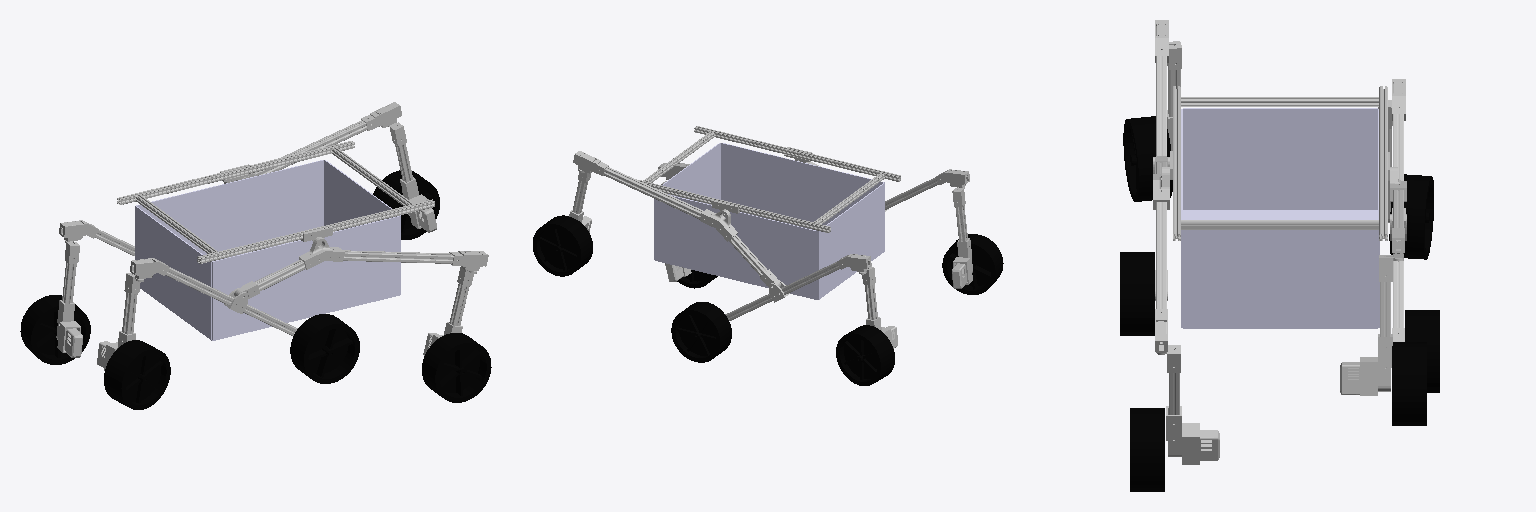
URDF robot description (Mars-Rover-URDF):
<?xml version="1.0" encoding="utf-8"?>
<!-- This URDF was automatically created by SolidWorks to URDF Exporter! Originally created by
Stephen Brawner ([email redacted]) 
     Commit Version: 1.6.0-4-g7f85cfe  Build Version: 1.6.7995.38578
     For more information, please see http://wiki.ros.org/sw_urdf_exporter -->


<robot
  name="Mars-Rover-URDF">

  <material name="white">
    <color rgba="1 1 1 1" />
  </material>

  <material name="black">
    <color rgba="0 0 0 1" />
  </material>

  <material name="orange">
    <color rgba="1 0.3 0.1 1" />
  </material>

  <material name="blue">
    <color rgba="0.2 0.2 1 1" />
  </material>

  <material name="green">
    <color rgba="0 0.3 0 1" />
  </material>

  <material name="red">
    <color rgba="1 0 0 1" />
  </material>

  <material name="polycarbonate_clear">
    <color rgba="0.9 0.9 1 0.3" /> <!-- Slight bluish transparency for chassis -->
  </material>

  <material name="aluminum">
    <color rgba="0.8 0.8 0.8 1" /> <!-- Light gray for aluminum frame and x-bars -->
  </material>

  <material name="teal_blue">
    <color rgba="0.1 0.7 0.75 1" /> <!-- For the teal 3D printed joints/mounts -->
  </material>

  <material name="rubber_black">
    <color rgba="0.05 0.05 0.05 1" /> <!-- Extra dark for wheels/tires -->
  </material>

  <link
    name="base_link">
    <inertial>
      <origin
        xyz="0.0135427022776655 0.00237368886127913 0.0911475646666017"
        rpy="0 0 0" />
      <mass
        value="1.59483552" />
      <inertia
        ixx="0.01390300058104"
        ixy="8.34099127220805E-20"
        ixz="6.53256743568878E-20"
        iyy="0.0285974954758624"
        iyz="-7.98437892769275E-21"
        izz="0.0352539264984576" />
    </inertial>
    <visual>
      <origin
        xyz="0 0 0"
        rpy="0 0 0" />
      <geometry>
        <mesh
          filename="package://Mars-Rover-URDF/meshes/base_link.STL" />
      </geometry>
      <material name="polycarbonate_clear" />
    </visual>
    <collision>
      <origin
        xyz="0 0 0"
        rpy="0 0 0" />
      <geometry>
        <mesh
          filename="package://Mars-Rover-URDF/meshes/base_link.STL" />
      </geometry>
    </collision>
  </link>
  <gazebo reference="base_link">
    <material>Gazebo/Transparent</material>
  </gazebo>
  <gazebo reference="base_link">
    <material>Gazebo/Transparent</material>
  </gazebo>

  <link
    name="xbar_top_frame">
    <inertial>
      <origin
        xyz="0.000811499096929666 8.04911692853238E-16 0.1957"
        rpy="0 0 0" />
      <mass
        value="0.180967186857142" />
      <inertia
        ixx="0.000721536956668616"
        ixy="-2.7642978576952E-19"
        ixz="1.94383162100892E-19"
        iyy="0.003879590641316"
        iyz="1.13530247207173E-19"
        izz="0.00459369904571848" />
    </inertial>
    <visual>
      <origin
        xyz="0 0 0"
        rpy="0 0 0" />
      <geometry>
        <mesh
          filename="package://Mars-Rover-URDF/meshes/xbar_top_frame.STL" />
      </geometry>
      <material name="aluminum" />
    </visual>
    <collision>
      <origin
        xyz="0 0 0"
        rpy="0 0 0" />
      <geometry>
        <mesh
          filename="package://Mars-Rover-URDF/meshes/xbar_top_frame.STL" />
      </geometry>
    </collision>
  </link>
  <gazebo reference="xbar_top_frame">
    <material>Gazebo/Grey</material>
  </gazebo>


  <joint
    name="xbar_to_chassis_joint"
    type="fixed">
    <origin
      xyz="0.0176427022776656 -0.000626311138720845 0.0245815452491259"
      rpy="0 0 0" />
    <parent
      link="base_link" />
    <child
      link="xbar_top_frame" />
    <axis
      xyz="0 0 0" />
  </joint>
  <link
    name="rocker_to_frame_mount_left">
    <inertial>
      <origin
        xyz="0.00190000079764292 -0.194277679658848 0.187230370865528"
        rpy="0 0 0" />
      <mass
        value="0.0178174846110633" />
      <inertia
        ixx="1.64411942078336E-06"
        ixy="-6.08082946986121E-14"
        ixz="2.61335306584619E-15"
        iyy="8.9149566286252E-06"
        iyz="1.87998295961392E-07"
        izz="8.30298452857927E-06" />
    </inertial>
    <visual>
      <origin
        xyz="0 0 0"
        rpy="0 0 0" />
      <geometry>
        <mesh
          filename="package://Mars-Rover-URDF/meshes/rocker_to_frame_mount_left.STL" />
      </geometry>
      <material name="aluminum" />
    </visual>
    <collision>
      <origin
        xyz="0 0 0"
        rpy="0 0 0" />
      <geometry>
        <mesh
          filename="package://Mars-Rover-URDF/meshes/rocker_to_frame_mount_left.STL" />
      </geometry>
    </collision>
  </link>
  <joint
    name="rocker_to_frame_mount_left_joint"
    type="fixed">
    <origin
      xyz="0.0038 0 0"
      rpy="0 0 3.14159265358979" />
    <parent
      link="xbar_top_frame" />
    <child
      link="rocker_to_frame_mount_left" />
    <axis
      xyz="0 0 0" />
  </joint>
  <link
    name="left_rocker">
    <inertial>
      <origin
        xyz="-0.145741143663234 -0.0146489091382667 -0.0386401086913282"
        rpy="0 0 0" />
      <mass
        value="0.238601333424936" />
      <inertia
        ixx="6.56386397841031E-05"
        ixy="-3.22464227159727E-07"
        ixz="6.39601909179774E-05"
        iyy="0.00112588477072356"
        iyz="-1.29107457638619E-06"
        izz="0.00108818807546615" />
    </inertial>
    <visual>
      <origin
        xyz="0 0 0"
        rpy="0 0 0" />
      <geometry>
        <mesh
          filename="package://Mars-Rover-URDF/meshes/left_rocker.STL" />
      </geometry>
      <material name="aluminum" />
    </visual>
    <collision>
      <origin
        xyz="0 0 0"
        rpy="0 0 0" />
      <geometry>
        <mesh
          filename="package://Mars-Rover-URDF/meshes/left_rocker.STL" />
      </geometry>
    </collision>
  </link>
  <joint
    name="left_rocker_joint"
    type="continuous">
    <origin
      xyz="0.00189999999999785 -0.2008 0.173199999999999"
      rpy="0 0.205218691223717 0" />
    <parent
      link="rocker_to_frame_mount_left" />
    <child
      link="left_rocker" />
    <axis
      xyz="0 1 0" />
  </joint>
  <link
    name="left_rocker_wheel_strut">
    <inertial>
      <origin
        xyz="0.00463075086736031 -0.0474614628973919 -0.172551230026844"
        rpy="0 0 0" />
      <mass
        value="0.215297840696796" />
      <inertia
        ixx="0.000267687983183879"
        ixy="1.76743609580319E-06"
        ixz="1.40170206954178E-06"
        iyy="0.000248397370479286"
        iyz="-1.54188756477438E-05"
        izz="5.77461596511164E-05" />
    </inertial>
    <visual>
      <origin
        xyz="0 0 0"
        rpy="0 0 0" />
      <geometry>
        <mesh
          filename="package://Mars-Rover-URDF/meshes/left_rocker_wheel_strut.STL" />
      </geometry>
      <material name="aluminum" />
    </visual>
    <collision>
      <origin
        xyz="0 0 0"
        rpy="0 0 0" />
      <geometry>
        <mesh
          filename="package://Mars-Rover-URDF/meshes/left_rocker_wheel_strut.STL" />
      </geometry>
    </collision>
  </link>
  <joint
    name="left_rocker_wheel_strut_joint"
    type="continuous">
    <origin
      xyz="-0.436500004239615 -0.01475 -0.0611007329555057"
      rpy="0 0 3.04933024079565" />
    <parent
      link="left_rocker" />
    <child
      link="left_rocker_wheel_strut" />
    <axis
      xyz="0 0 1" />
  </joint>
  <link
    name="front_left_wheel">
    <inertial>
      <origin
        xyz="-0.00483668113982993 0.0213634172584402 -1.80411241501588E-15"
        rpy="0 0 0" />
      <mass
        value="0.592760238512046" />
      <inertia
        ixx="0.0012756713003382"
        ixy="-0.000202280629685217"
        ixz="3.79470760369927E-19"
        iyy="0.00212333997025137"
        iyz="-1.49077798716757E-18"
        izz="0.00122987493289774" />
    </inertial>
    <visual>
      <origin
        xyz="0 0 0"
        rpy="0 0 0" />
      <geometry>
        <mesh
          filename="package://Mars-Rover-URDF/meshes/front_left_wheel.STL" />
      </geometry>
      <material name="rubber_black" />
    </visual>
    <collision>
      <origin
        xyz="0 0 0"
        rpy="0 0 0" />
      <geometry>
        <mesh
          filename="package://Mars-Rover-URDF/meshes/front_left_wheel.STL" />
      </geometry>
    </collision>
  </link>
  <joint
    name="front_left_wheel_joint"
    type="continuous">
    <origin
      xyz="0.000373462813278103 3.39194206695481E-05 -0.226836767044501"
      rpy="-3.08115374387749 0.26072091977244 -2.82044418134632" />
    <parent
      link="left_rocker_wheel_strut" />
    <child
      link="front_left_wheel" />
    <axis
      xyz="0.220811799511534 -0.975316435418002 0" />
  </joint>
  <link
    name="left_bogie">
    <inertial>
      <origin
        xyz="0.0759568398824178 -0.0146925582517434 0.00797636955766201"
        rpy="0 0 0" />
      <mass
        value="0.191498434857371" />
      <inertia
        ixx="0.000499608172377785"
        ixy="-1.18339942707853E-10"
        ixz="-0.00088843861470592"
        iyy="0.00218514017414647"
        iyz="1.25070233350845E-09"
        izz="0.00170716647882503" />
    </inertial>
    <visual>
      <origin
        xyz="0 0 0"
        rpy="0 0 0" />
      <geometry>
        <mesh
          filename="package://Mars-Rover-URDF/meshes/left_bogie.STL" />
      </geometry>
      <material name="aluminum" />
    </visual>
    <collision>
      <origin
        xyz="0 0 0"
        rpy="0 0 0" />
      <geometry>
        <mesh
          filename="package://Mars-Rover-URDF/meshes/left_bogie.STL" />
      </geometry>
    </collision>
  </link>
  <joint
    name="left_bogie_joint"
    type="continuous">
    <origin
      xyz="0.191978071510022 0 -0.130588977226116"
      rpy="0 -0.316495515015275 0" />
    <parent
      link="left_rocker" />
    <child
      link="left_bogie" />
    <axis
      xyz="0 1 0" />
  </joint>
  <link
    name="left_middle_wheel">
    <inertial>
      <origin
        xyz="-0.0132827324711453 0.0586692709131832 -1.3392065234541E-15"
        rpy="0 0 0" />
      <mass
        value="0.592760238512045" />
      <inertia
        ixx="0.0012756713003382"
        ixy="-0.000202280629685218"
        ixz="3.25260651745651E-19"
        iyy="0.00212333997025137"
        iyz="-1.91768259258374E-18"
        izz="0.00122987493289774" />
    </inertial>
    <visual>
      <origin
        xyz="0 0 0"
        rpy="0 0 0" />
      <geometry>
        <mesh
          filename="package://Mars-Rover-URDF/meshes/left_middle_wheel.STL" />
      </geometry>
      <material name="rubber_black" />
    </visual>
    <collision>
      <origin
        xyz="0 0 0"
        rpy="0 0 0" />
      <geometry>
        <mesh
          filename="package://Mars-Rover-URDF/meshes/left_middle_wheel.STL" />
      </geometry>
    </collision>
  </link>
  <joint
    name="left_middle_wheel_joint"
    type="continuous">
    <origin
      xyz="-0.220157828209466 0 -0.145023978949895"
      rpy="-3.06072262662052 0.342728964216389 0.236649656298727" />
    <parent
      link="left_bogie" />
    <child
      link="left_middle_wheel" />
    <axis
      xyz="0.220811799511535 -0.975316435418002 0" />
  </joint>
  <link
    name="left_bogie_wheel_strut">
    <inertial>
      <origin
        xyz="0.00463075063698415 -0.0474614621520017 -0.107848205067026"
        rpy="0 0 0" />
      <mass
        value="0.215297841060573" />
      <inertia
        ixx="0.000267687983572951"
        ixy="1.76743593733558E-06"
        ixz="1.40170220688109E-06"
        iyy="0.000248397370343526"
        iyz="-1.54188765408756E-05"
        izz="5.77461604673897E-05" />
    </inertial>
    <visual>
      <origin
        xyz="0 0 0"
        rpy="0 0 0" />
      <geometry>
        <mesh
          filename="package://Mars-Rover-URDF/meshes/left_bogie_wheel_strut.STL" />
      </geometry>
      <material name="aluminum" />
    </visual>
    <collision>
      <origin
        xyz="0 0 0"
        rpy="0 0 0" />
      <geometry>
        <mesh
          filename="package://Mars-Rover-URDF/meshes/left_bogie_wheel_strut.STL" />
      </geometry>
    </collision>
  </link>
  <joint
    name="left_bogie_wheel_strut_joint"
    type="continuous">
    <origin
      xyz="0.282426325346583 -0.014875000000001 0"
      rpy="0 0 2.92666748379435" />
    <parent
      link="left_bogie" />
    <child
      link="left_bogie_wheel_strut" />
    <axis
      xyz="0 0 1" />
  </joint>
  <link
    name="front_back_wheel">
    <inertial>
      <origin
        xyz="-0.0057199283378741 0.0252646830001106 -2.16493489801906E-15"
        rpy="0 0 0" />
      <mass
        value="0.592760238512045" />
      <inertia
        ixx="0.0012756713003382"
        ixy="-0.000202280629685217"
        ixz="1.0842021724855E-19"
        iyy="0.00212333997025137"
        iyz="1.28749007982654E-19"
        izz="0.00122987493289774" />
    </inertial>
    <visual>
      <origin
        xyz="0 0 0"
        rpy="0 0 0" />
      <geometry>
        <mesh
          filename="package://Mars-Rover-URDF/meshes/front_back_wheel.STL" />
      </geometry>
      <material name="rubber_black" />
    </visual>
    <collision>
      <origin
        xyz="0 0 0"
        rpy="0 0 0" />
      <geometry>
        <mesh
          filename="package://Mars-Rover-URDF/meshes/front_back_wheel.STL" />
      </geometry>
    </collision>
  </link>
  <joint
    name="front_back_wheel_joint"
    type="continuous">
    <origin
      xyz="0.000373462813279157 3.39194206695204E-05 -0.162133741980369"
      rpy="-0.540911922792394 1.15655588476994 -0.490122742369759" />
    <parent
      link="left_bogie_wheel_strut" />
    <child
      link="front_back_wheel" />
    <axis
      xyz="0.220811799511534 -0.975316435418002 0" />
  </joint>
  <link
    name="rocker_to_frame_mount_right">
    <inertial>
      <origin
        xyz="0.00190000079764292 -0.194277679658848 0.187230370865528"
        rpy="0 0 0" />
      <mass
        value="0.0178174846110633" />
      <inertia
        ixx="1.64411942078337E-06"
        ixy="-6.08082947465613E-14"
        ixz="2.61335165428216E-15"
        iyy="8.91495662862521E-06"
        iyz="1.87998295961392E-07"
        izz="8.30298452857928E-06" />
    </inertial>
    <visual>
      <origin
        xyz="0 0 0"
        rpy="0 0 0" />
      <geometry>
        <mesh
          filename="package://Mars-Rover-URDF/meshes/rocker_to_frame_mount_right.STL" />
      </geometry>
      <material name="aluminum" />
    </visual>
    <collision>
      <origin
        xyz="0 0 0"
        rpy="0 0 0" />
      <geometry>
        <mesh
          filename="package://Mars-Rover-URDF/meshes/rocker_to_frame_mount_right.STL" />
      </geometry>
    </collision>
  </link>
  <joint
    name="rocker_to_frame_mount_right_joint"
    type="fixed">
    <origin
      xyz="0 0 0"
      rpy="0 0 0" />
    <parent
      link="xbar_top_frame" />
    <child
      link="rocker_to_frame_mount_right" />
    <axis
      xyz="0 0 0" />
  </joint>
  <link
    name="right_rocker">
    <inertial>
      <origin
        xyz="-0.145741139562984 0.0147894287442281 -0.0386401067770018"
        rpy="0 0 0" />
      <mass
        value="0.23860136190612" />
      <inertia
        ixx="6.56386401901881E-05"
        ixy="3.22421996290942E-07"
        ixz="6.39601885705249E-05"
        iyy="0.00112588477433771"
        iyz="1.28846932652461E-06"
        izz="0.00108818807928839" />
    </inertial>
    <visual>
      <origin
        xyz="0 0 0"
        rpy="0 0 0" />
      <geometry>
        <mesh
          filename="package://Mars-Rover-URDF/meshes/right_rocker.STL" />
      </geometry>
      <material name="aluminum" />
    </visual>
    <collision>
      <origin
        xyz="0 0 0"
        rpy="0 0 0" />
      <geometry>
        <mesh
          filename="package://Mars-Rover-URDF/meshes/right_rocker.STL" />
      </geometry>
    </collision>
  </link>
  <joint
    name="right_rocker_joint"
    type="continuous">
    <origin
      xyz="0.00190000000000082 -0.2008 0.173199999999998"
      rpy="0 -0.255302519881884 3.14159265358965" />
    <parent
      link="rocker_to_frame_mount_right" />
    <child
      link="right_rocker" />
    <axis
      xyz="0 1 0" />
  </joint>
  <link
    name="right_rocker_wheel_strut">
    <inertial>
      <origin
        xyz="-0.0102956238535956 0.0460946160405353 -0.200661042823282"
        rpy="0 0 0" />
      <mass
        value="0.215297840693502" />
      <inertia
        ixx="0.000266892008210912"
        ixy="4.22434599188816E-06"
        ixz="-3.41996882698488E-06"
        iyy="0.000249193345450758"
        iyz="1.5100010190188E-05"
        izz="5.77461596420612E-05" />
    </inertial>
    <visual>
      <origin
        xyz="0 0 0"
        rpy="0 0 0" />
      <geometry>
        <mesh
          filename="package://Mars-Rover-URDF/meshes/right_rocker_wheel_strut.STL" />
      </geometry>
      <material name="aluminum" />
    </visual>
    <collision>
      <origin
        xyz="0 0 0"
        rpy="0 0 0" />
      <geometry>
        <mesh
          filename="package://Mars-Rover-URDF/meshes/right_rocker_wheel_strut.STL" />
      </geometry>
    </collision>
  </link>
  <joint
    name="right_rocker_wheel_strut_joint"
    type="continuous">
    <origin
      xyz="-0.436500004239613 0.0152499999999373 -0.0329909201580134"
      rpy="0 0 2.91894591666021" />
    <parent
      link="right_rocker" />
    <child
      link="right_rocker_wheel_strut" />
    <axis
      xyz="0 0 1" />
  </joint>
  <link
    name="right_front_wheel">
    <inertial>
      <origin
        xyz="0.00549692887111342 -0.0229485777091253 0.119847481625213"
        rpy="0 0 0" />
      <mass
        value="0.592760238512045" />
      <inertia
        ixx="0.0012756713003382"
        ixy="-0.000202280629685217"
        ixz="8.67361737988404E-19"
        iyy="0.00212333997025137"
        iyz="-3.71339244076285E-18"
        izz="0.00122987493289774" />
    </inertial>
    <visual>
      <origin
        xyz="0 0 0"
        rpy="0 0 0" />
      <geometry>
        <mesh
          filename="package://Mars-Rover-URDF/meshes/right_front_wheel.STL" />
      </geometry>
      <material name="rubber_black" />
    </visual>
    <collision>
      <origin
        xyz="0 0 0"
        rpy="0 0 0" />
      <geometry>
        <mesh
          filename="package://Mars-Rover-URDF/meshes/right_front_wheel.STL" />
      </geometry>
    </collision>
  </link>
  <joint
    name="right_front_wheel_joint"
    type="continuous">
    <origin
      xyz="0 0 -0.1351"
      rpy="-3.1408 0.0034092 -2.6963" />
    <parent
      link="right_rocker_wheel_strut" />
    <child
      link="right_front_wheel" />
    <axis
      xyz="0.0034092 0.00077185 0.99999" />
  </joint>
  <link
    name="right_bogie">
    <inertial>
      <origin
        xyz="0.0759568390256915 0.0148074417247584 0.00797636919353462"
        rpy="0 0 0" />
      <mass
        value="0.191498434460467" />
      <inertia
        ixx="0.000499608172315682"
        ixy="-1.18267529546553E-10"
        ixz="-0.000888438614462158"
        iyy="0.00218514017400551"
        iyz="1.25077098924792E-09"
        izz="0.00170716647871943" />
    </inertial>
    <visual>
      <origin
        xyz="0 0 0"
        rpy="0 0 0" />
      <geometry>
        <mesh
          filename="package://Mars-Rover-URDF/meshes/right_bogie.STL" />
      </geometry>
      <material name="aluminum" />
    </visual>
    <collision>
      <origin
        xyz="0 0 0"
        rpy="0 0 0" />
      <geometry>
        <mesh
          filename="package://Mars-Rover-URDF/meshes/right_bogie.STL" />
      </geometry>
    </collision>
  </link>
  <joint
    name="right_bogie_joint"
    type="continuous">
    <origin
      xyz="0.19198 0 -0.13059"
      rpy="0 0.14041 0" />
    <parent
      link="right_rocker" />
    <child
      link="right_bogie" />
    <axis
      xyz="0 1 0" />
  </joint>
  <link
    name="right_middle_wheel">
    <inertial>
      <origin
        xyz="0.0127730598712159 -0.0564180684661425 -5.55111512312578E-17"
        rpy="0 0 0" />
      <mass
        value="0.592760238512045" />
      <inertia
        ixx="0.0012756713003382"
        ixy="-0.000202280629685217"
        ixz="6.50521303491303E-19"
        iyy="0.00212333997025137"
        iyz="-2.53432257818487E-18"
        izz="0.00122987493289774" />
    </inertial>
    <visual>
      <origin
        xyz="0 0 0"
        rpy="0 0 0" />
      <geometry>
        <mesh
          filename="package://Mars-Rover-URDF/meshes/right_middle_wheel.STL" />
      </geometry>
      <material name="rubber_black" />
    </visual>
    <collision>
      <origin
        xyz="0 0 0"
        rpy="0 0 0" />
      <geometry>
        <mesh
          filename="package://Mars-Rover-URDF/meshes/right_middle_wheel.STL" />
      </geometry>
    </collision>
  </link>
  <joint
    name="right_middle_wheel_joint"
    type="continuous">
    <origin
      xyz="-0.22016 0 -0.14502"
      rpy="-0.12179 0.49252 2.8883" />
    <parent
      link="right_bogie" />
    <child
      link="right_middle_wheel" />
    <axis
      xyz="0.22081 -0.97532 0" />
  </joint>
  <link
    name="right_bogie_wheel_strut">
    <inertial>
      <origin
        xyz="-0.0102956261285994 0.0460946208416417 -0.107848213200591"
        rpy="0 0 0" />
      <mass
        value="0.215297868113389" />
      <inertia
        ixx="0.000266892029173771"
        ixy="4.22435230111114E-06"
        ixz="-3.4199751870707E-06"
        iyy="0.000249193360127232"
        iyz="1.51000188490165E-05"
        izz="5.77461732228625E-05" />
    </inertial>
    <visual>
      <origin
        xyz="0 0 0"
        rpy="0 0 0" />
      <geometry>
        <mesh
          filename="package://Mars-Rover-URDF/meshes/right_bogie_wheel_strut.STL" />
      </geometry>
      <material name="aluminum" />
    </visual>
    <collision>
      <origin
        xyz="0 0 0"
        rpy="0 0 0" />
      <geometry>
        <mesh
          filename="package://Mars-Rover-URDF/meshes/right_bogie_wheel_strut.STL" />
      </geometry>
    </collision>
  </link>
  <joint
    name="right_bogie_wheel_strut_joint"
    type="continuous">
    <origin
      xyz="0.282426325346583 0.0146249999999995 0"
      rpy="0 0 3.1072058885597" />
    <parent
      link="right_bogie" />
    <child
      link="right_bogie_wheel_strut" />
    <axis
      xyz="0 0 1" />
  </joint>
  <link
    name="right_back_wheel">
    <inertial>
      <origin
        xyz="-0.00583033423762963 0.0257523412178216 -4.9960036108132E-16"
        rpy="0 0 0" />
      <mass
        value="0.592760238512046" />
      <inertia
        ixx="0.0012756713003382"
        ixy="-0.000202280629685217"
        ixz="4.87890977618477E-19"
        iyy="0.00212333997025137"
        iyz="-3.54398585131199E-18"
        izz="0.00122987493289774" />
    </inertial>
    <visual>
      <origin
        xyz="0 0 0"
        rpy="0 0 0" />
      <geometry>
        <mesh
          filename="package://Mars-Rover-URDF/meshes/right_back_wheel.STL" />
      </geometry>
      <material name="rubber_black" />
    </visual>
    <collision>
      <origin
        xyz="0 0 0"
        rpy="0 0 0" />
      <geometry>
        <mesh
          filename="package://Mars-Rover-URDF/meshes/right_back_wheel.STL" />
      </geometry>
    </collision>
  </link>
  <joint
    name="right_back_wheel_joint"
    type="continuous">
    <origin
      xyz="0.00012191 2.7601E-05 -0.16213"
      rpy="0.23717 -0.80393 3.0404" />
    <parent
      link="right_bogie_wheel_strut" />
    <child
      link="right_back_wheel" />
    <axis
      xyz="0.22081 -0.97532 0" />
  </joint>
</robot>

--- Facts derived from the render (not from the file) ---
The picture shows the robot from 3 angles, left to right: view 1: azimuth 30°, elevation 25°; view 2: azimuth 150°, elevation 25°; view 3: azimuth 270°, elevation 25°; orthographic projection.
Model Mars-Rover-URDF with 18 links and 17 joints (14 continuous, 3 fixed), rooted at base_link, posed all joints at 0.
Links seen in each view (by area): view 1: base_link, xbar_top_frame, right_middle_wheel, right_front_wheel, right_back_wheel, right_rocker, front_back_wheel, right_bogie, left_bogie_wheel_strut, left_rocker_wheel_strut, left_rocker, front_left_wheel (+3 smaller); view 2: base_link, xbar_top_frame, left_rocker, left_middle_wheel, front_left_wheel, front_back_wheel, right_back_wheel, left_bogie, right_bogie_wheel_strut, right_bogie, left_bogie_wheel_strut, left_rocker_wheel_strut; view 3: base_link, xbar_top_frame, left_rocker_wheel_strut, right_front_wheel, right_middle_wheel, front_left_wheel, right_rocker_wheel_strut, right_back_wheel, right_rocker, front_back_wheel, left_bogie, left_middle_wheel (+3 smaller).
Link boxes in pixels (bbox=[...]): base_link: bbox=[135, 160, 400, 340]; xbar_top_frame: bbox=[117, 141, 434, 263]; right_middle_wheel: bbox=[290, 314, 359, 383]; right_front_wheel: bbox=[422, 333, 491, 402]; right_back_wheel: bbox=[104, 340, 170, 409]; right_rocker: bbox=[234, 237, 488, 298]; front_back_wheel: bbox=[20, 295, 90, 364]; right_bogie: bbox=[130, 258, 297, 335]; left_bogie_wheel_strut: bbox=[56, 240, 82, 357]; left_rocker_wheel_strut: bbox=[388, 122, 436, 232]; left_rocker: bbox=[224, 102, 401, 183]; front_left_wheel: bbox=[373, 170, 439, 239]; base_link: bbox=[654, 143, 884, 299]; xbar_top_frame: bbox=[636, 126, 900, 232]; left_rocker: bbox=[573, 151, 780, 286]; left_middle_wheel: bbox=[671, 302, 731, 362]; front_left_wheel: bbox=[533, 215, 592, 276]; front_back_wheel: bbox=[836, 325, 894, 385]; right_back_wheel: bbox=[942, 234, 1003, 294]; left_bogie: bbox=[725, 254, 871, 320]; right_bogie_wheel_strut: bbox=[952, 187, 972, 288]; right_bogie: bbox=[885, 169, 969, 211]; left_bogie_wheel_strut: bbox=[859, 266, 897, 348]; left_rocker_wheel_strut: bbox=[569, 169, 591, 232]; base_link: bbox=[1181, 108, 1379, 328]; xbar_top_frame: bbox=[1173, 86, 1387, 240]; left_rocker_wheel_strut: bbox=[1340, 255, 1403, 395]; right_front_wheel: bbox=[1130, 408, 1164, 491]; right_middle_wheel: bbox=[1120, 252, 1154, 335]; front_left_wheel: bbox=[1392, 342, 1426, 425]; right_rocker_wheel_strut: bbox=[1156, 345, 1219, 464]; right_back_wheel: bbox=[1123, 116, 1172, 201]; right_rocker: bbox=[1153, 156, 1169, 352]; front_back_wheel: bbox=[1389, 174, 1433, 259]; left_bogie: bbox=[1390, 79, 1406, 341]; left_middle_wheel: bbox=[1405, 310, 1439, 392].
Bounding box of the posed robot: 1.16 × 0.5831 × 0.5501 m (x, y, z).
18 mesh visuals loaded from 18 distinct referenced files (18 binary STL).
